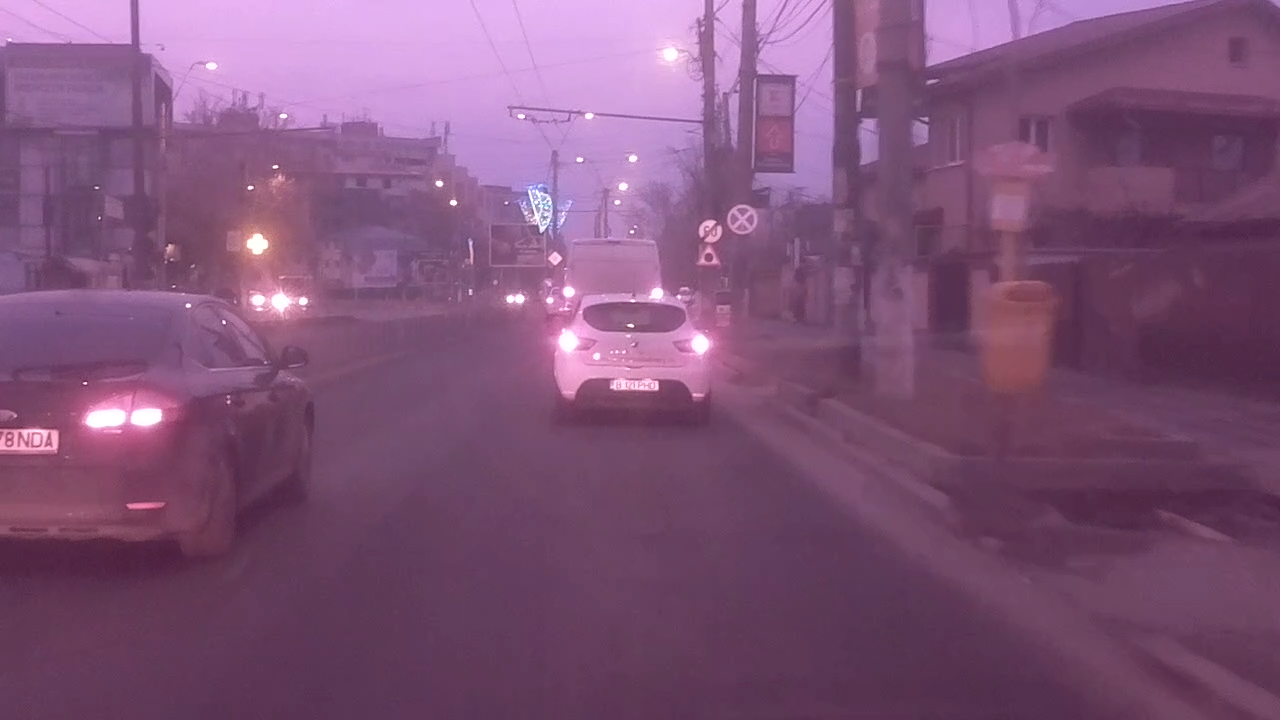license-plate: (606, 377, 661, 393)
